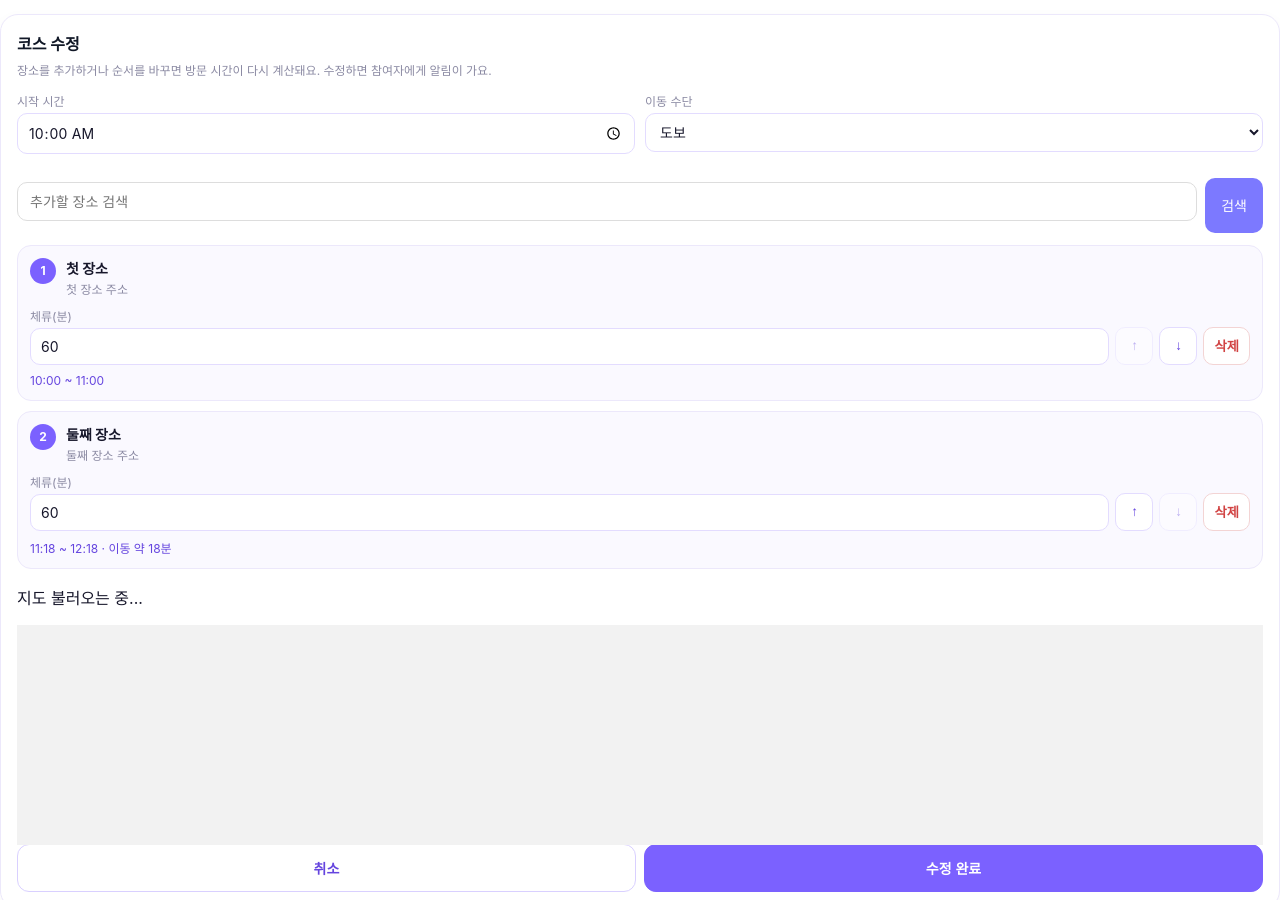
Test case: 저장 실패 메시지를 보여 주고 다시 시도 가능
This screenshot has width=1280, height=900.
Click the button "수정 완료": (954,868) 644,844 -> 1263,892
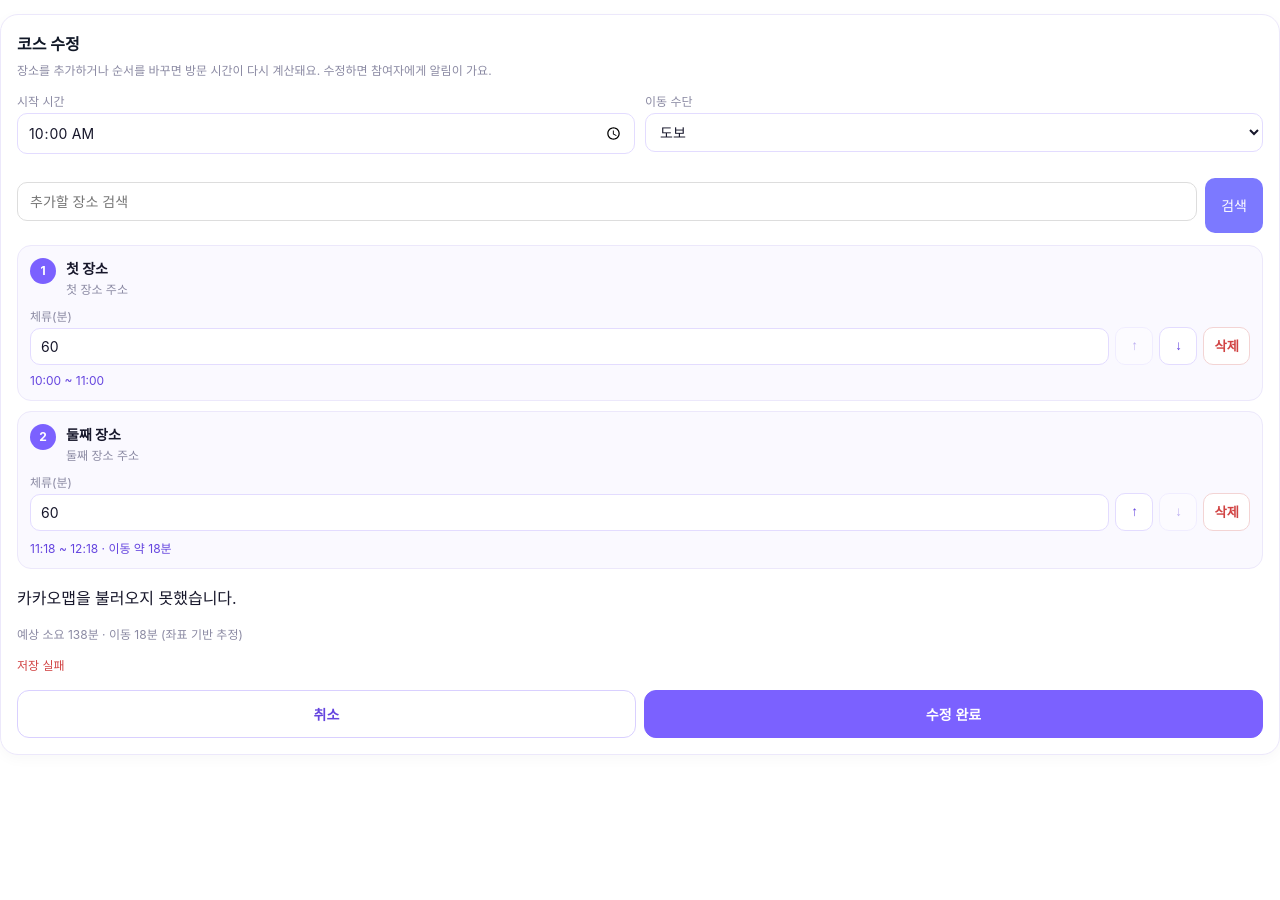
Expected: the button "수정 완료" is enabled, 644,690 -> 1263,738
Now the message reads "저장 실패", box 17,658 -> 64,673
